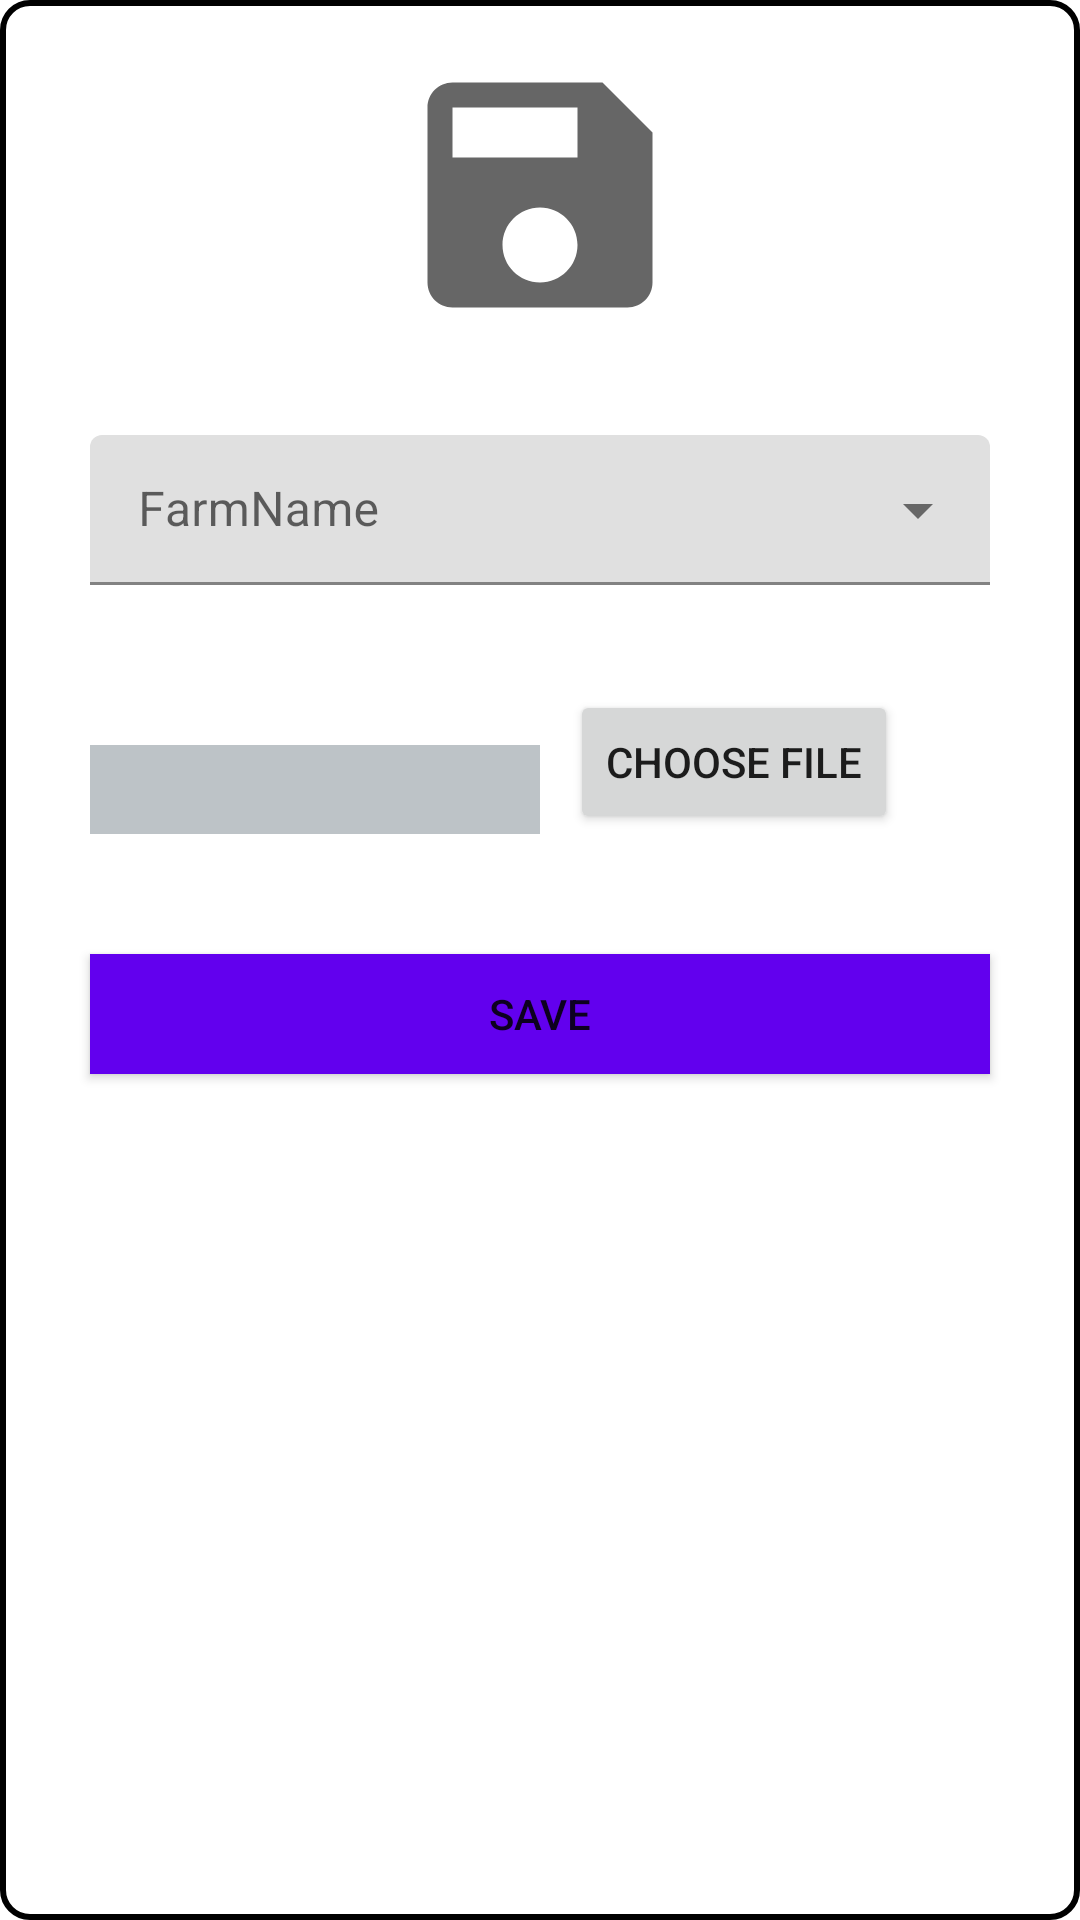

Screen size 1080×1920. Icon name, then its box in pixels as (x1, y1, x2, y2):
save: (427, 82, 653, 308)
